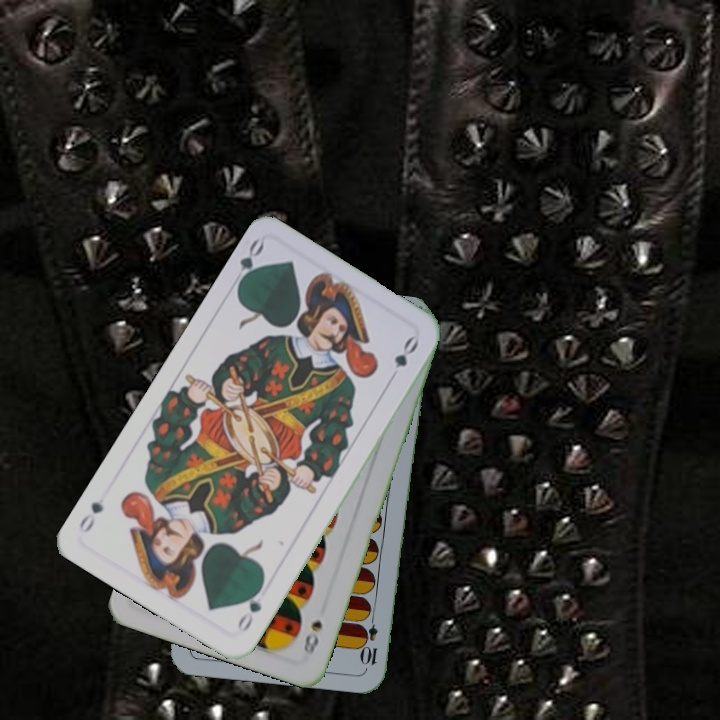E10: (360, 609, 381, 668)
GO: (233, 235, 267, 292), (233, 581, 266, 635)
S8: (299, 616, 325, 658)
